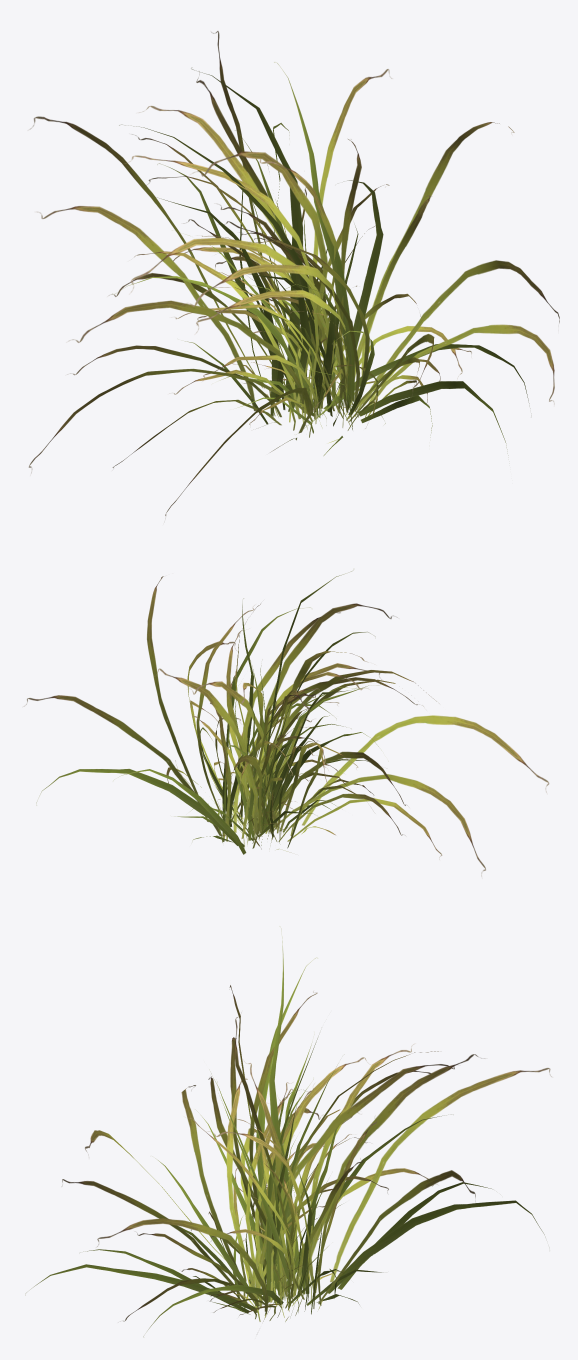
The model's file is grass-cosmic-b.glb.
3 renders of one model, top to bottom at view 1: azimuth 30°, elevation 25°; view 2: azimuth 150°, elevation 25°; view 3: azimuth 270°, elevation 25°, orthographic. The views are drawn at different scales.
Parts seen in each view (by area): view 1: GrassAutumn3; view 2: GrassAutumn3; view 3: GrassAutumn3.
Part boxes in pixels (x1,y1,x2,y2): GrassAutumn3: (29, 31, 559, 518); GrassAutumn3: (24, 571, 549, 876); GrassAutumn3: (25, 928, 551, 1336).
Size of the model in its own units: 0.2432 by 0.1802 by 0.2674.
2 materials, 2 textured.
